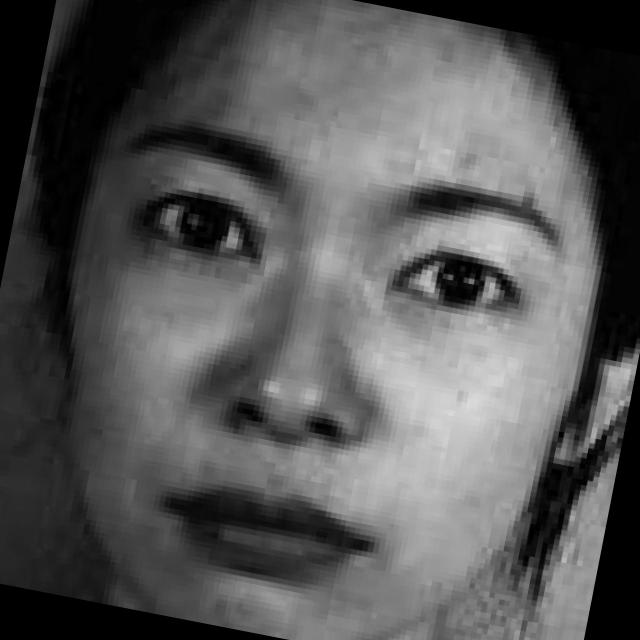fear: (14, 9, 629, 640)
